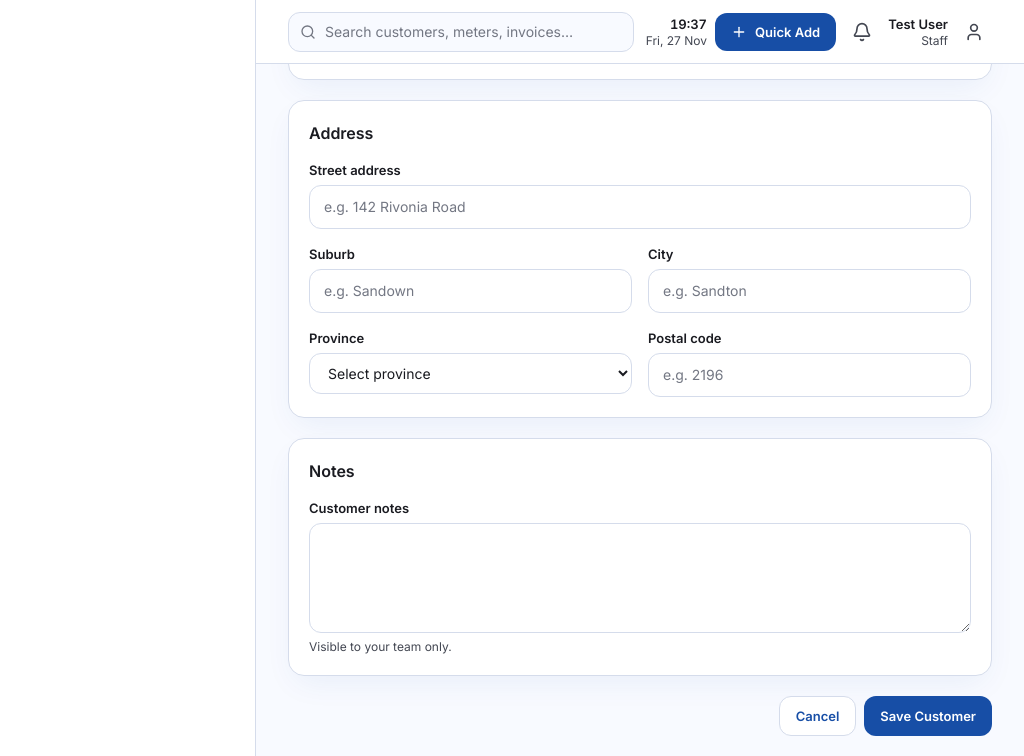
Test: add customer › clears an error as soon as that field is edited
(page scrolled)
Click the button "Save Customer" at (928, 716), box [864,696,992,736]
(page scrolled)
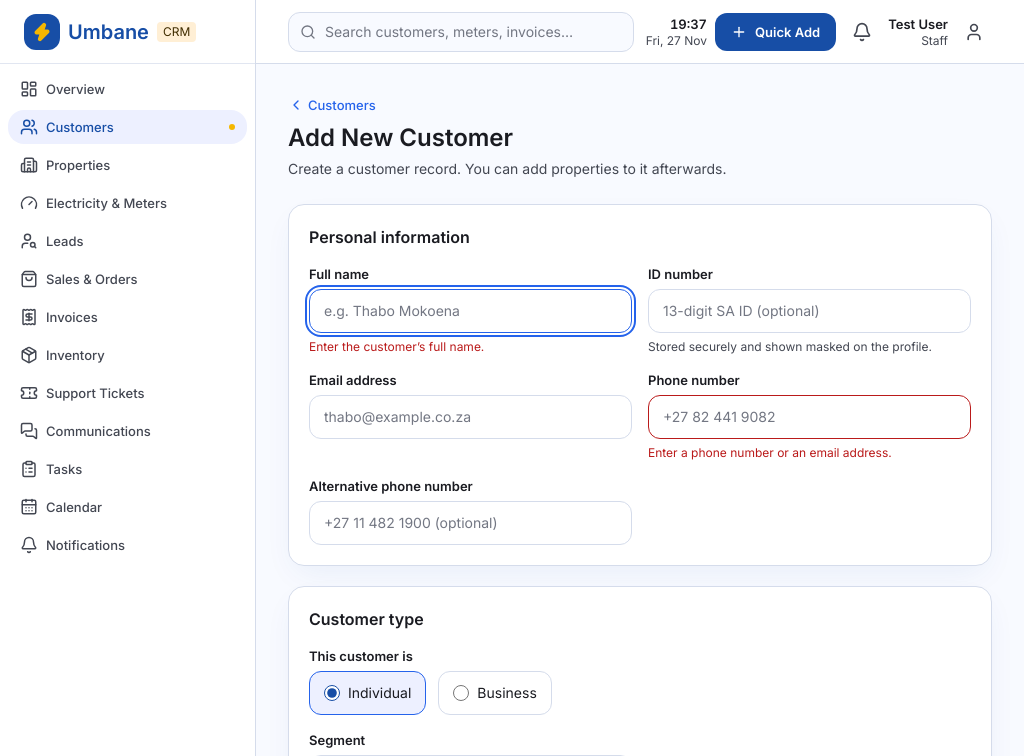
Type "Thabo" into the field labelled "Full name" at (470, 311), box [309,289,632,333]
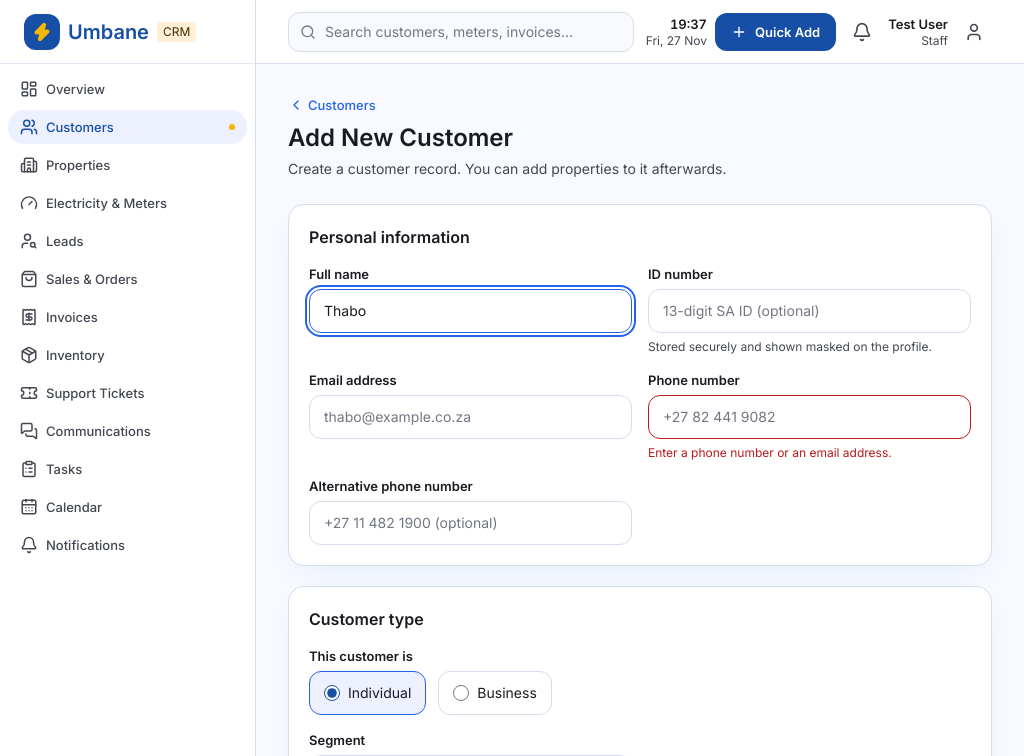
Now the text "Enter the customer’s full name." is gone
